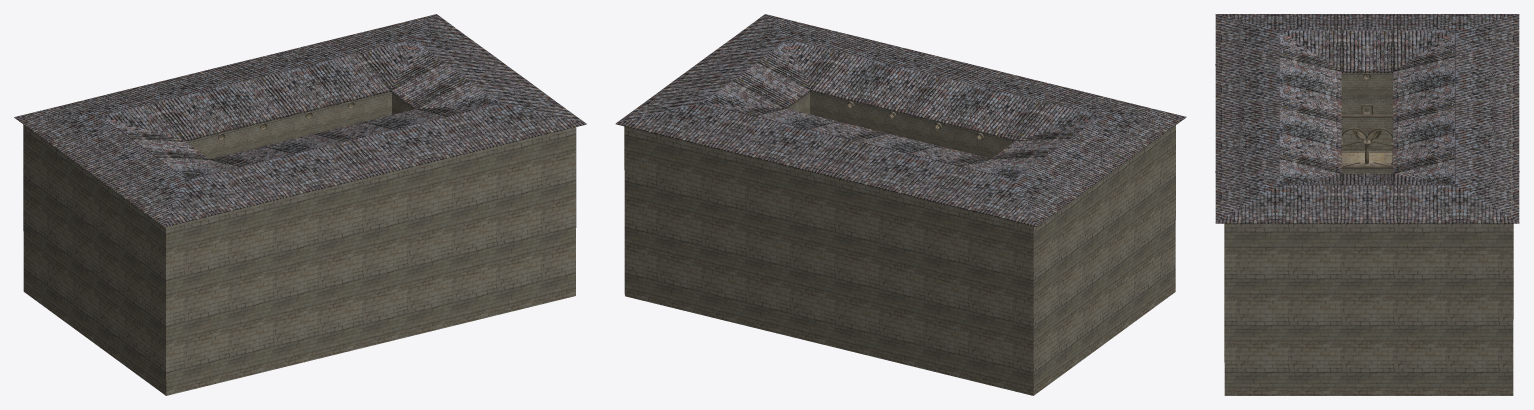
Rendered from sponza.glb.
3 views of the same model, side by side, from view 1: azimuth 30°, elevation 25°; view 2: azimuth 150°, elevation 25°; view 3: azimuth 270°, elevation 25° (orthographic).
Size of the model in its own units: 29.77 by 12.45 by 18.31.
25 materials, 24 textured.
